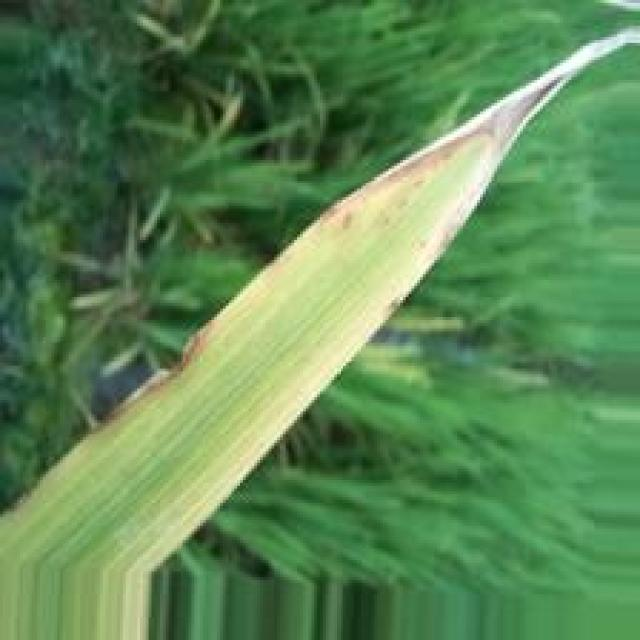Leaf_Scald: (9, 33, 635, 640)
